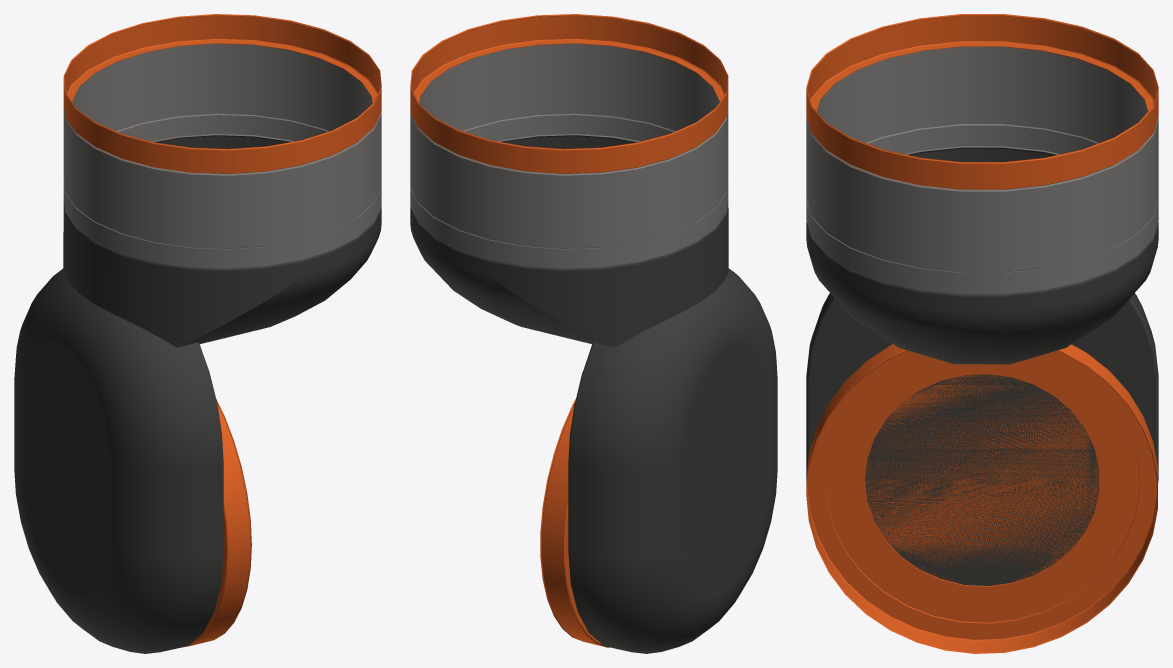
Rendered from igus_REBEL_j2.gltf.
The picture shows the model from 3 angles, left to right: view 1: azimuth 30°, elevation 25°; view 2: azimuth 150°, elevation 25°; view 3: azimuth 270°, elevation 25°; orthographic projection. The views are drawn at different scales.
Visible parts, largest first — view 1: ReBel002.001; view 2: ReBel002.001; view 3: ReBel002.001.
Part boxes in pixels (left/top/right/bottom): ReBel002.001: left=14, top=14, right=381, bottom=653; ReBel002.001: left=410, top=14, right=777, bottom=653; ReBel002.001: left=806, top=14, right=1158, bottom=653.
Size of the model in its own units: 0.1116 by 0.195 by 0.105.
